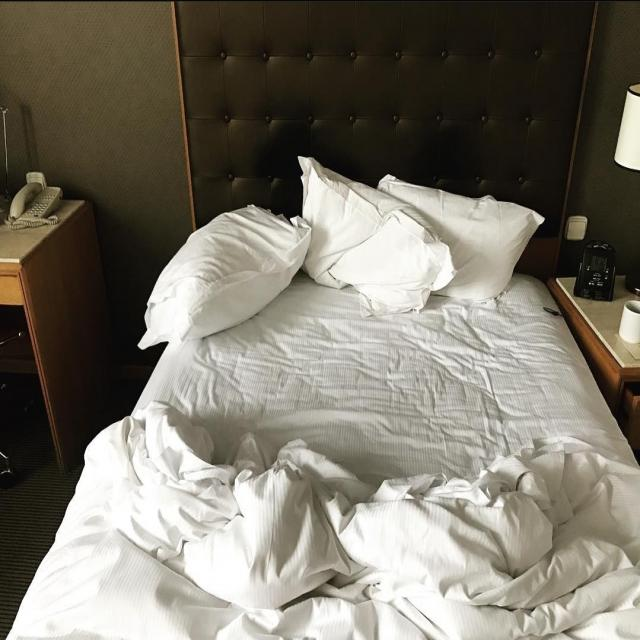bed: (80, 172, 640, 640)
